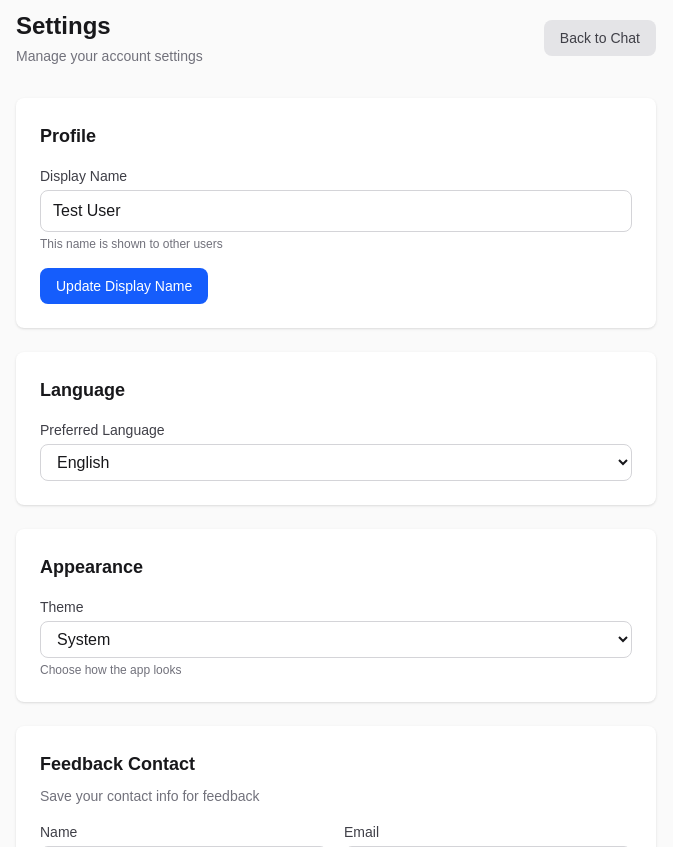
Test: SettingsPage › Display name section › shows error when submitting empty display name
Clear the field labelled "Display Name" at coordinates (336, 211), box x1=40 y1=190 x2=632 y2=232
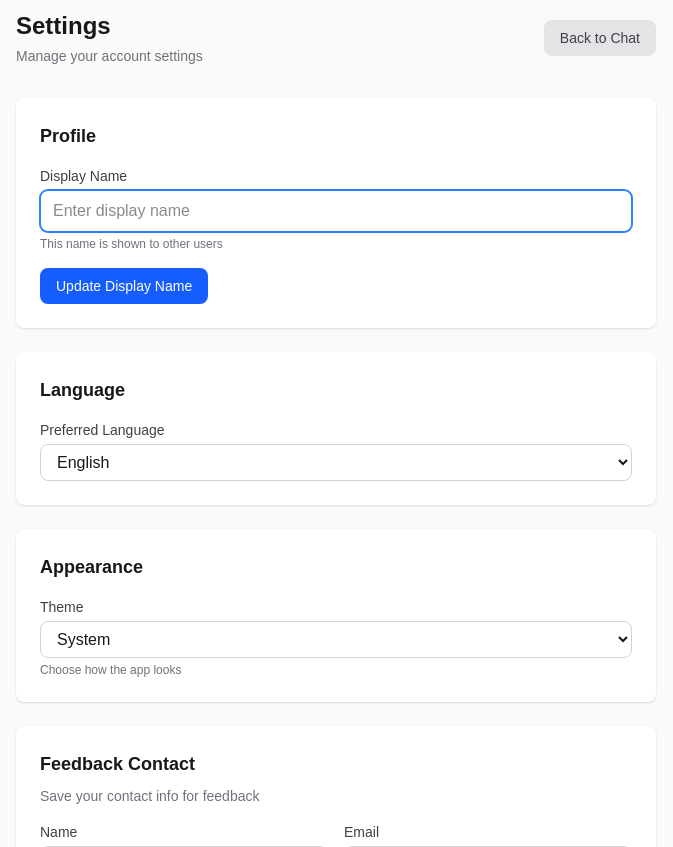
Click the button "Update Display Name" at coordinates (124, 286), box x1=40 y1=268 x2=208 y2=304
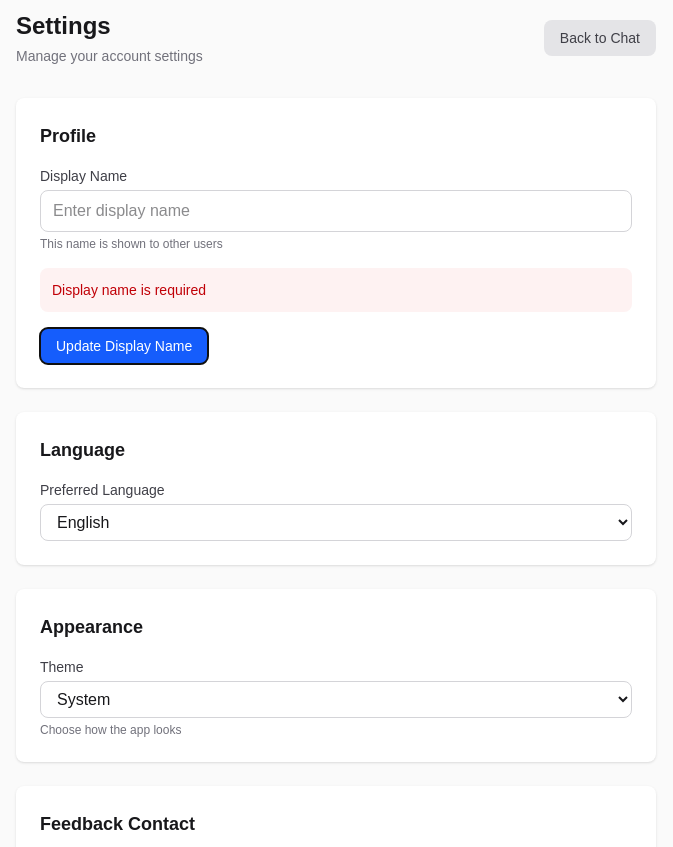
Check: the text "Display name is required" is shown, box x1=40 y1=268 x2=632 y2=312
